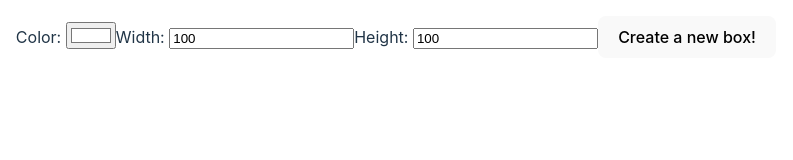
NewBoxForm › form submits correctly
This screenshot has width=793, height=160.
Note: Fill out the form
Type "#00FF00" into the colour field labelled "Color:" at (91, 36), box [66,22,116,49]
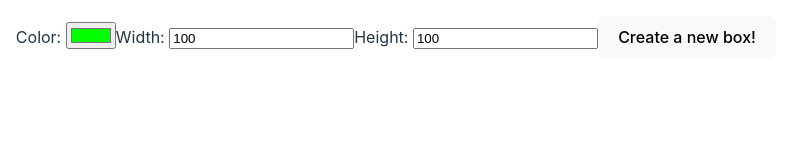
Replace the text in the number field labelled "Width:" with "200" at (262, 38), box [169,28,354,49]
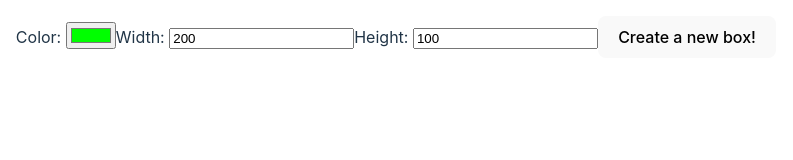
Replace the text in the number field labelled "Height:" with "150" at (505, 38), box [413,28,598,49]
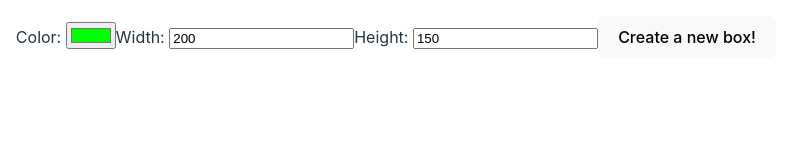
Note: Submit the form
Click the button "Create a new box!" at (687, 37), box [598,16,776,58]
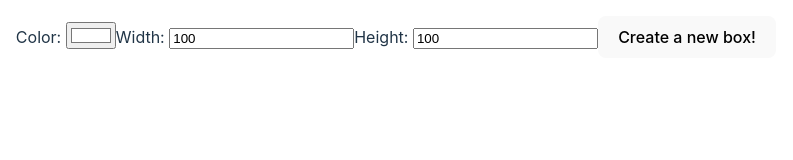
Check: the number field labelled "Width:" holds "100", box [169,28,354,49]
Check: the number field labelled "Height:" holds "100", box [413,28,598,49]
